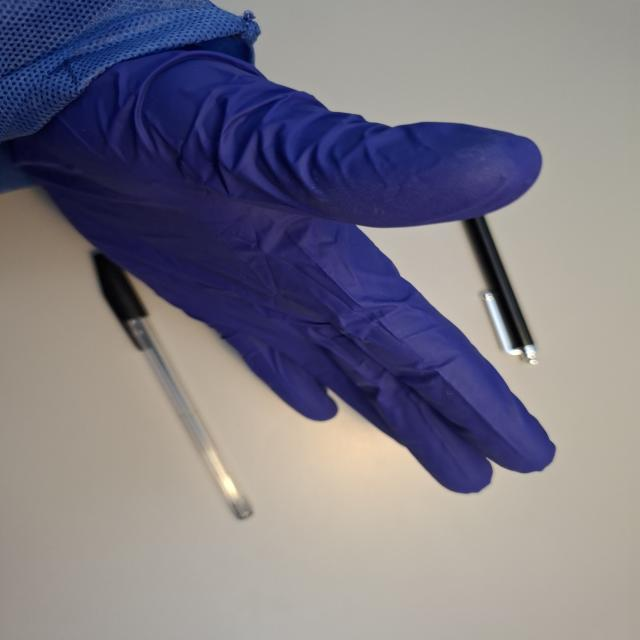glove_on: (5, 23, 563, 496)
